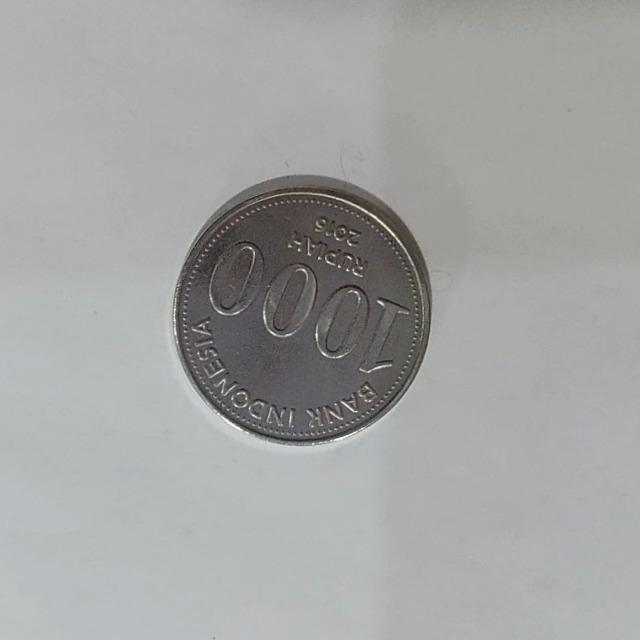Rp100: (170, 172, 433, 447)
